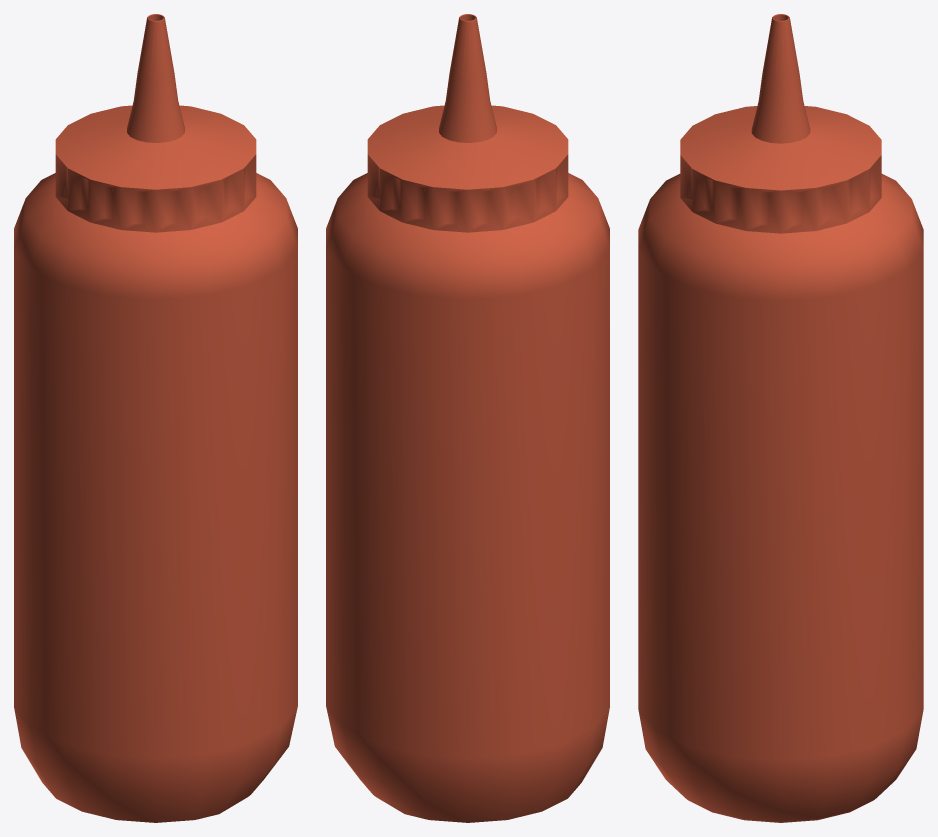
File: KetchupBottle.fbx
The picture shows the model from 3 angles, left to right: view 1: azimuth 30°, elevation 25°; view 2: azimuth 150°, elevation 25°; view 3: azimuth 270°, elevation 25°; orthographic projection.
Visible parts, largest first — view 1: etchupBottle; view 2: etchupBottle; view 3: etchupBottle.
Part boxes in pixels (<box>): etchupBottle: <box>14,14,297,822</box>; etchupBottle: <box>326,14,609,822</box>; etchupBottle: <box>638,14,923,822</box>.
Size of the model in its own units: 0.2087 by 0.6048 by 0.2056.
